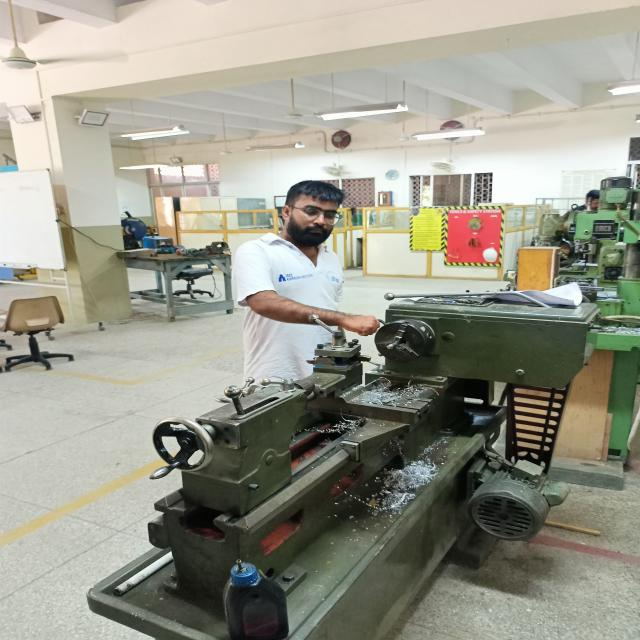dress: (224, 228, 358, 386)
glasses: (278, 199, 350, 227)
